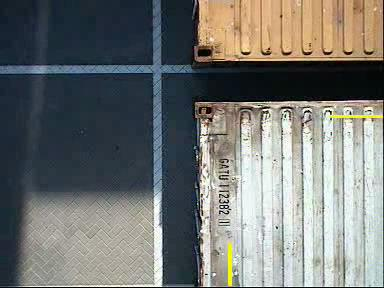groundmarker_2: (112, 21, 182, 72)
